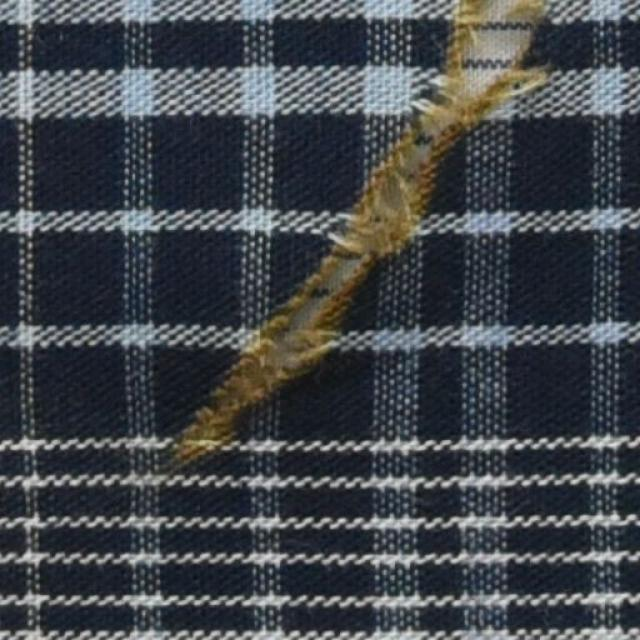Hole: (257, 255, 352, 377), (465, 8, 517, 81)
Stain: (342, 5, 560, 268), (170, 335, 336, 478)
